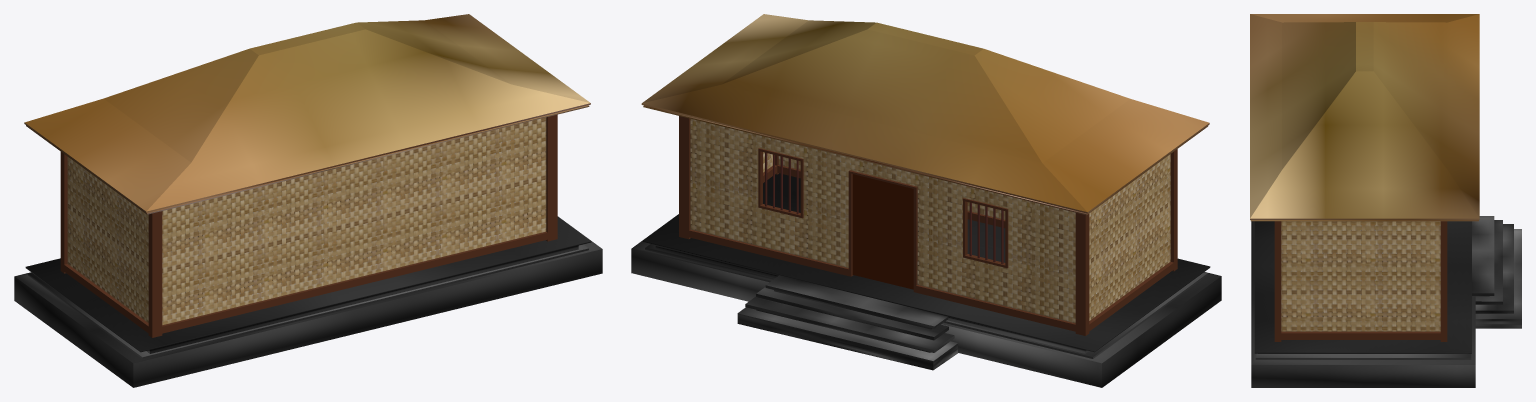
The model's file is Dapur.fbx.
3 views of the same model, side by side, from view 1: azimuth 30°, elevation 25°; view 2: azimuth 150°, elevation 25°; view 3: azimuth 270°, elevation 25° (orthographic). The views are drawn at different scales.
Visible parts, largest first — view 1: Atap Paon, Dinding Paon, Pondasi Paon, Tiang Paon; view 2: Atap Paon, Dinding Paon, Pondasi Paon, Tiang Paon, Tangga Paon, Pintu Paon, Pagar Jendela Paon; view 3: Atap Paon, Dinding Paon, Pondasi Paon, Tangga Paon, Tiang Paon.
Boxes of the visible parts, box(x1,y1,x2,y2) form: Atap Paon: box(24, 14, 590, 214); Dinding Paon: box(67, 117, 546, 325); Pondasi Paon: box(14, 216, 602, 387); Tiang Paon: box(60, 114, 557, 337); Atap Paon: box(641, 14, 1209, 215); Dinding Paon: box(690, 118, 1170, 323); Pondasi Paon: box(631, 173, 1221, 387); Tiang Paon: box(679, 116, 1177, 335); Tangga Paon: box(737, 275, 957, 370); Pintu Paon: box(852, 174, 913, 289); Pagar Jendela Paon: box(765, 152, 1003, 264); Atap Paon: box(1250, 14, 1479, 221); Dinding Paon: box(1281, 221, 1440, 331); Pondasi Paon: box(1251, 221, 1475, 387); Tangga Paon: box(1472, 216, 1521, 328); Tiang Paon: box(1274, 221, 1447, 341).
Bounding box in the file's own units: 16.5 × 8.35 × 8.78.
